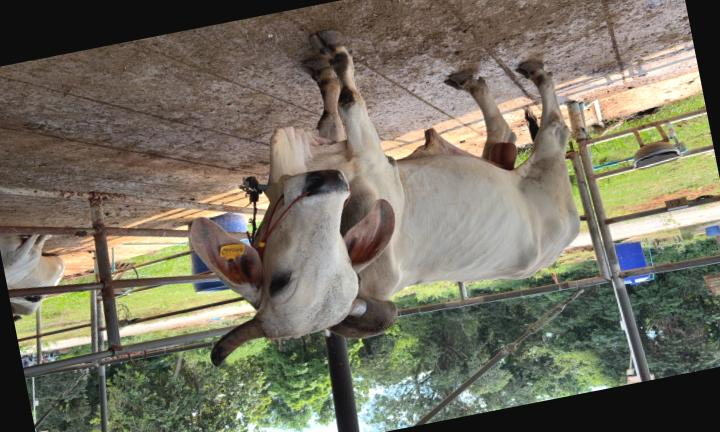Brahman: (191, 30, 579, 365)
